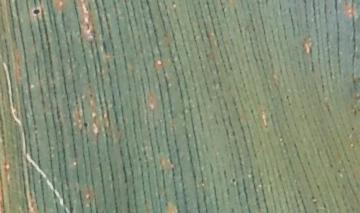tarspot: (31, 7, 40, 16), (82, 121, 89, 129), (349, 125, 355, 133), (230, 177, 236, 184)
